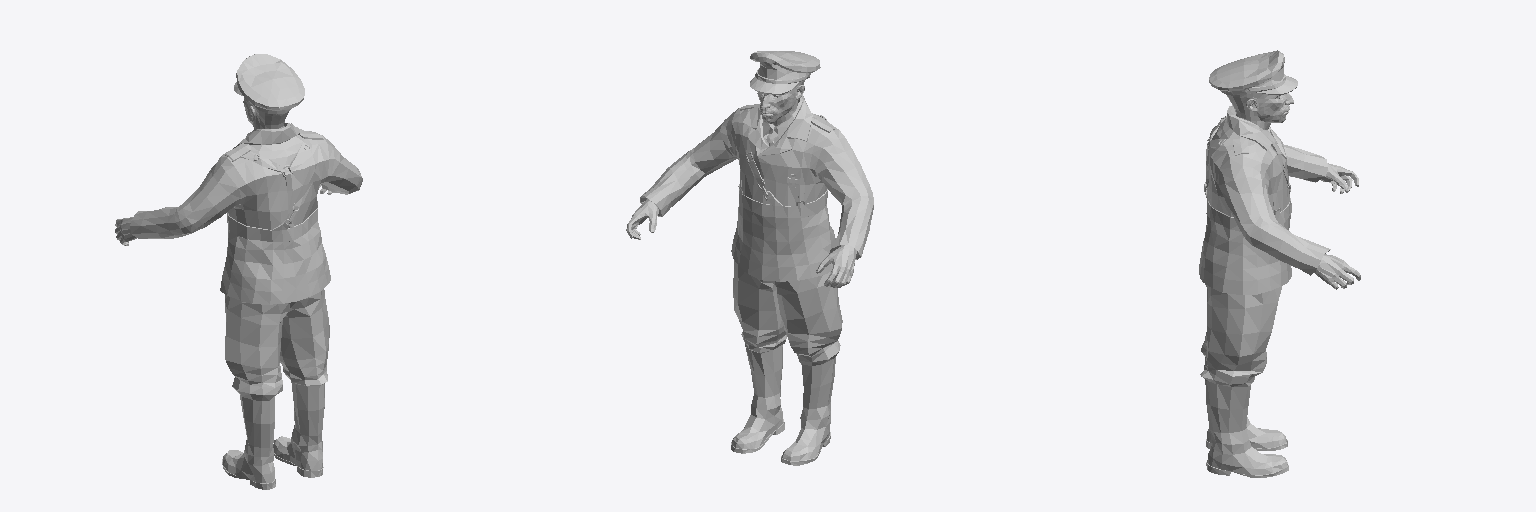
File: richtofen.obj
The picture shows the model from 3 angles: view 1: azimuth 30°, elevation 25°; view 2: azimuth 150°, elevation 25°; view 3: azimuth 270°, elevation 25°; orthographic projection.
Parts seen in each view (by area): view 1: Object_4; view 2: Object_4; view 3: Object_4.
Part boxes in pixels (bbox=[...]): Object_4: bbox=[115, 54, 362, 489]; Object_4: bbox=[626, 51, 873, 465]; Object_4: bbox=[1199, 50, 1360, 477].
Bounding box in the file's own units: 41.35 × 73.32 × 26.52.